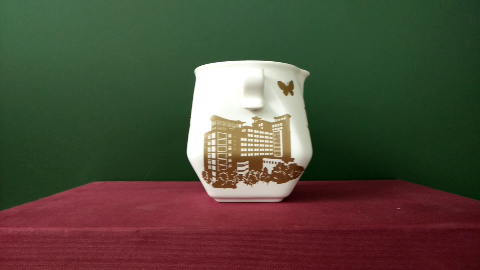butterfly: (266, 67, 305, 105)
lenwen: (212, 125, 290, 179)
